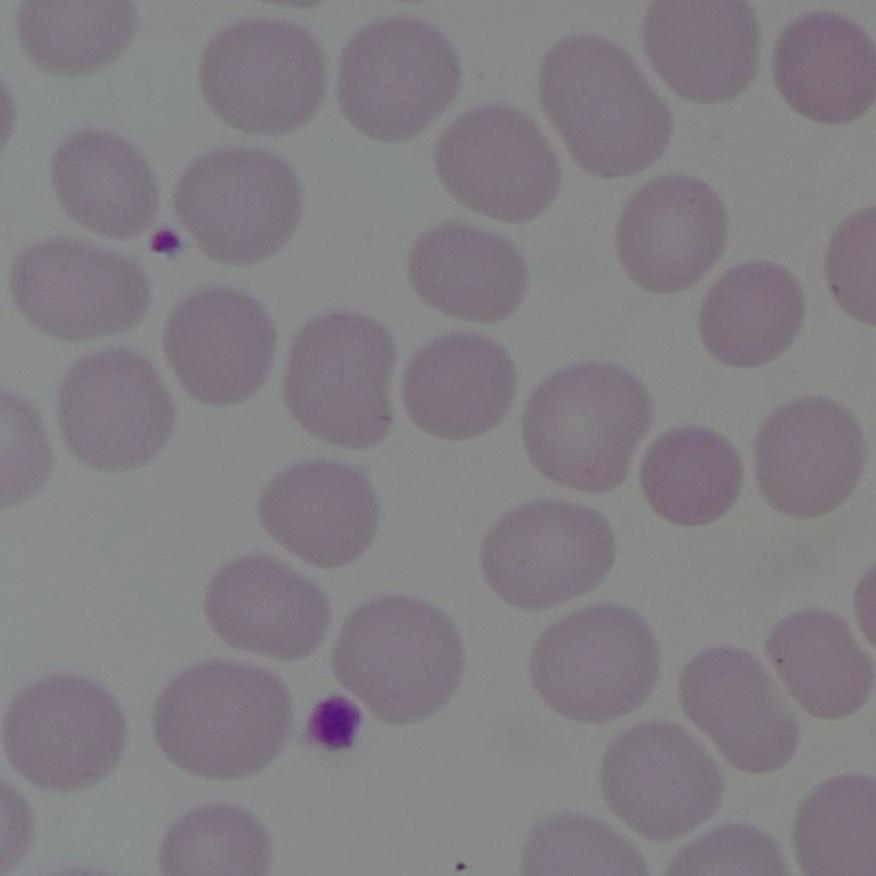Uninfected: (538, 34, 676, 177), (330, 595, 464, 722), (522, 362, 652, 489), (280, 311, 401, 447), (153, 661, 292, 779), (527, 605, 661, 723), (173, 147, 303, 265), (433, 107, 562, 225), (202, 14, 324, 137), (338, 24, 461, 144), (480, 500, 614, 610), (12, 236, 152, 341), (680, 646, 799, 769), (55, 349, 175, 470), (3, 673, 126, 790), (163, 287, 281, 408), (255, 460, 379, 575), (599, 723, 718, 839), (203, 556, 329, 662), (753, 396, 861, 518), (399, 332, 517, 441), (616, 177, 726, 290), (407, 223, 527, 323), (764, 609, 869, 722), (644, 2, 757, 102), (57, 130, 162, 237), (772, 13, 874, 122), (698, 263, 803, 366), (639, 427, 743, 528), (19, 2, 132, 76), (159, 806, 267, 876), (796, 777, 872, 870)
